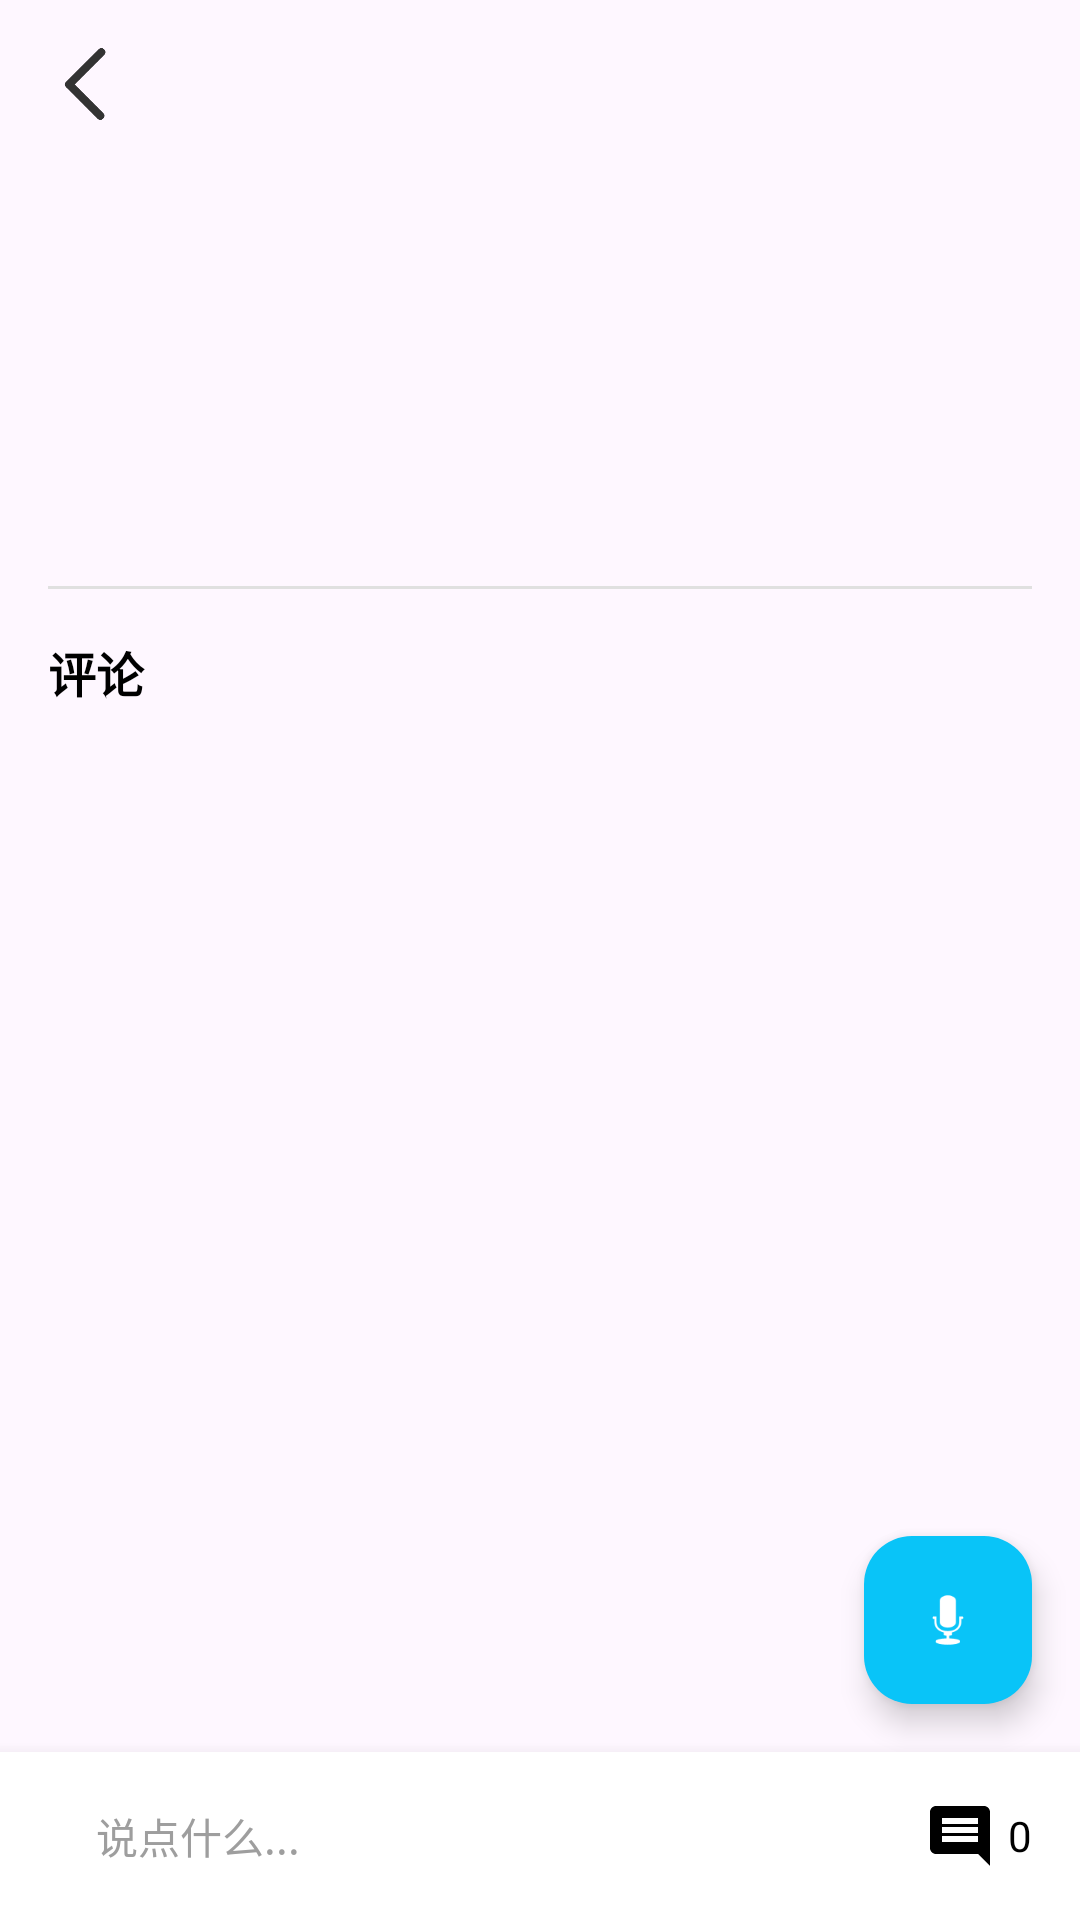

Screen size 1080*1920. Icon name, then its box in pixels as (x1, y1, x2, y2):
back: (65, 48, 106, 120)
comment: (930, 1806, 990, 1866)
